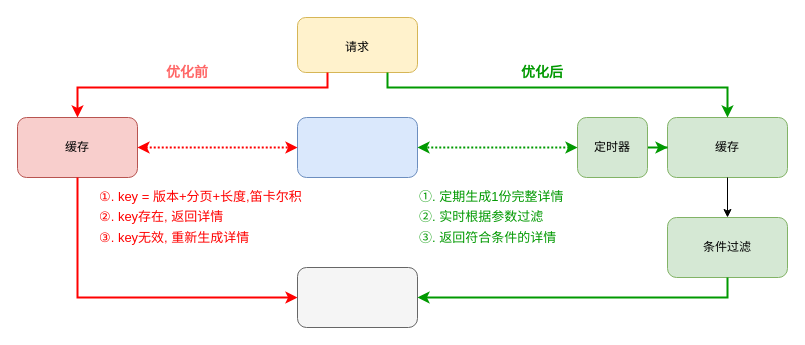
Image size: 805x345. Some labels were removed from this diagram. Each missing label, with the centre of its shape:
完成: the point at 357,297
生成详情: the point at 357,147
